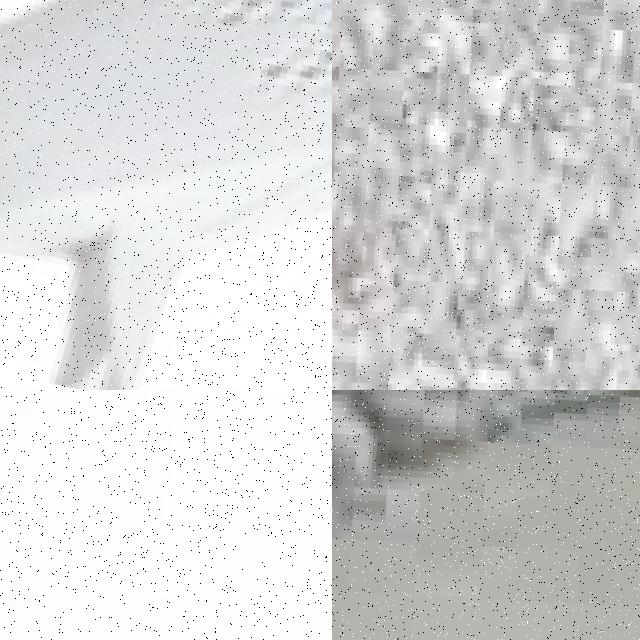drone: (0, 0, 332, 390)
